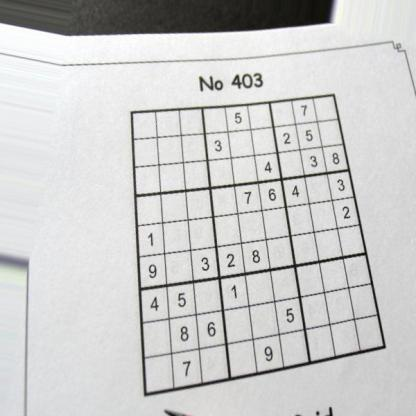sudoku: (126, 92, 388, 400)
